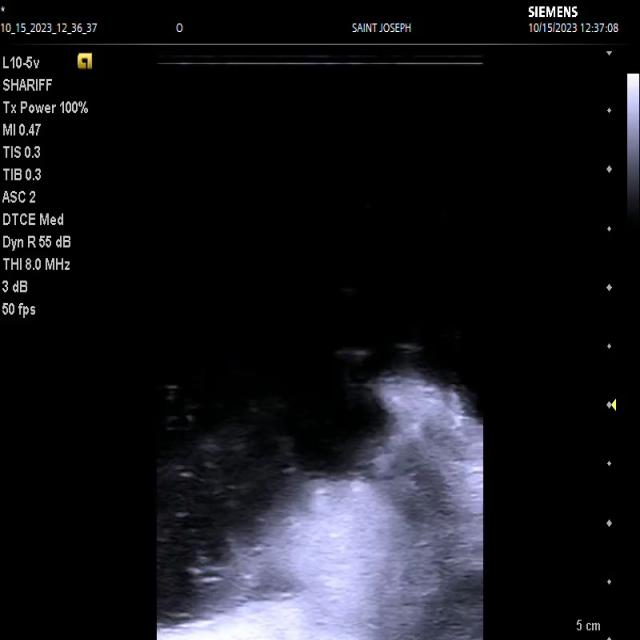tissue: (191, 372, 484, 632)
